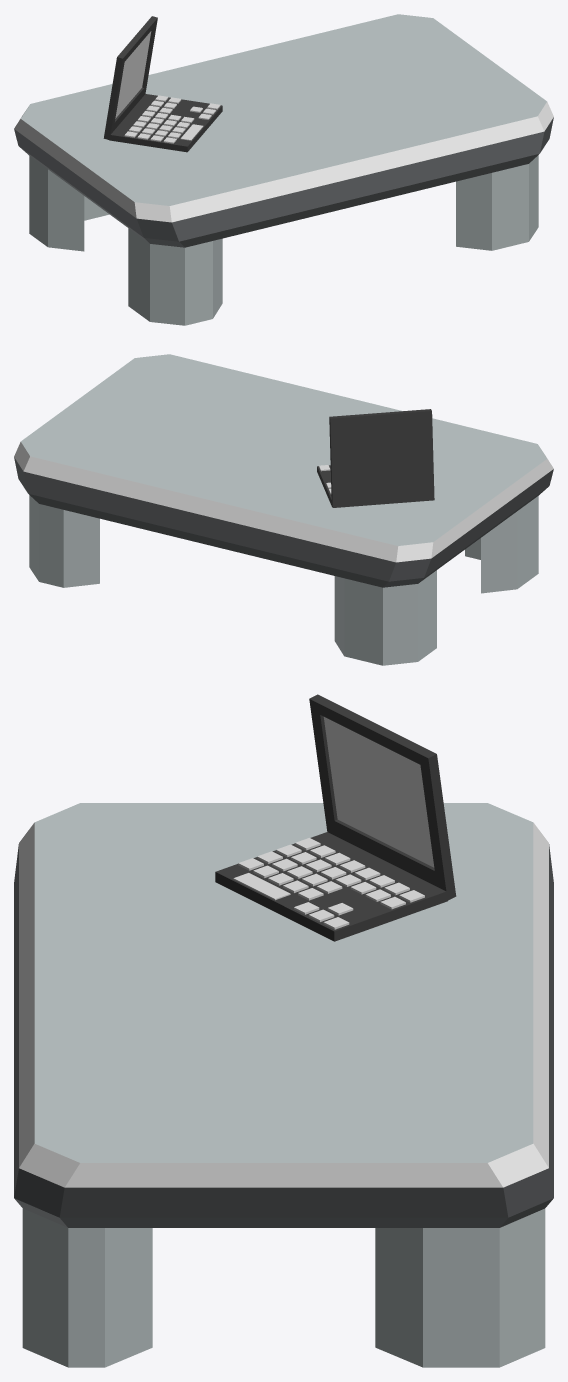
File: Coffee-Table.fbx
The picture shows the model from 3 angles, top to bottom: view 1: azimuth 30°, elevation 25°; view 2: azimuth 150°, elevation 25°; view 3: azimuth 270°, elevation 25°; orthographic projection. The views are drawn at different scales.
Parts seen in each view (by area): view 1: Coffee-Table, Lapotop; view 2: Coffee-Table, Lapotop; view 3: Coffee-Table, Lapotop.
Part boxes in pixels (box(x1,y1,x2,y2)): Coffee-Table: box(14, 14, 553, 325); Lapotop: box(103, 16, 222, 152); Coffee-Table: box(14, 354, 553, 665); Lapotop: box(317, 409, 434, 507); Coffee-Table: box(14, 803, 553, 1367); Lapotop: box(215, 694, 456, 941).
Size of the model in its own units: 1.65 by 0.7743 by 1.03.
